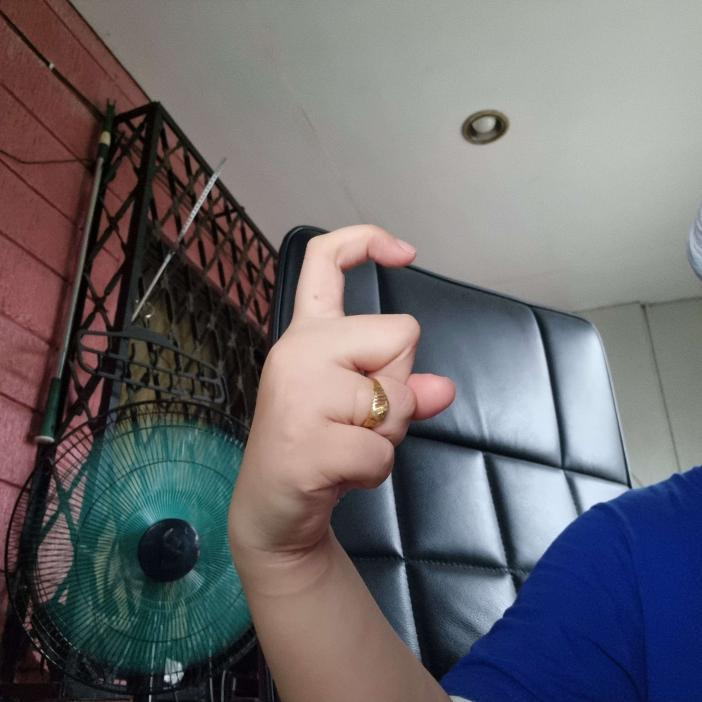x: (227, 222, 457, 569)
